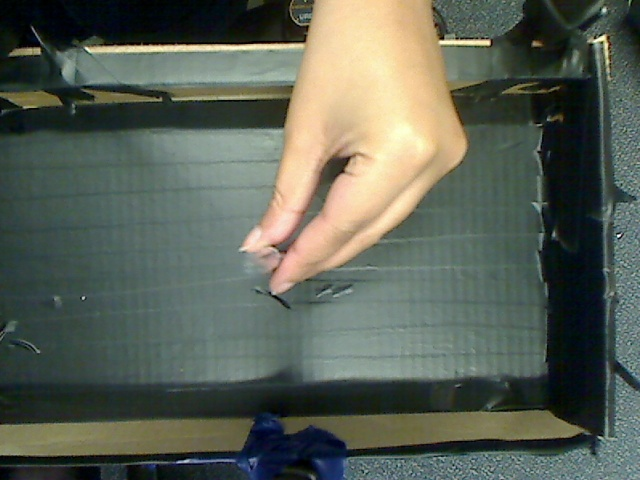pen: (231, 228, 306, 295)
